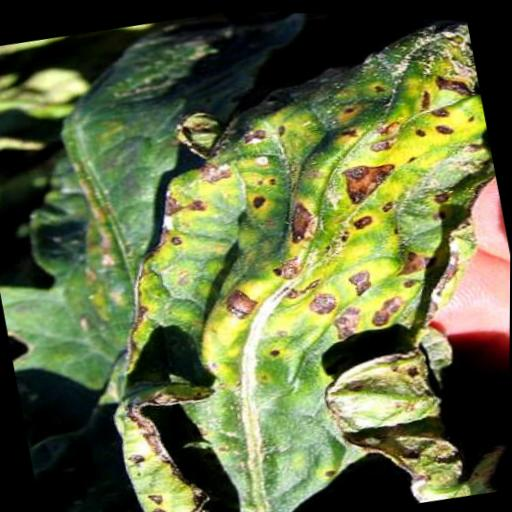Septoria: (30, 1, 512, 512)
